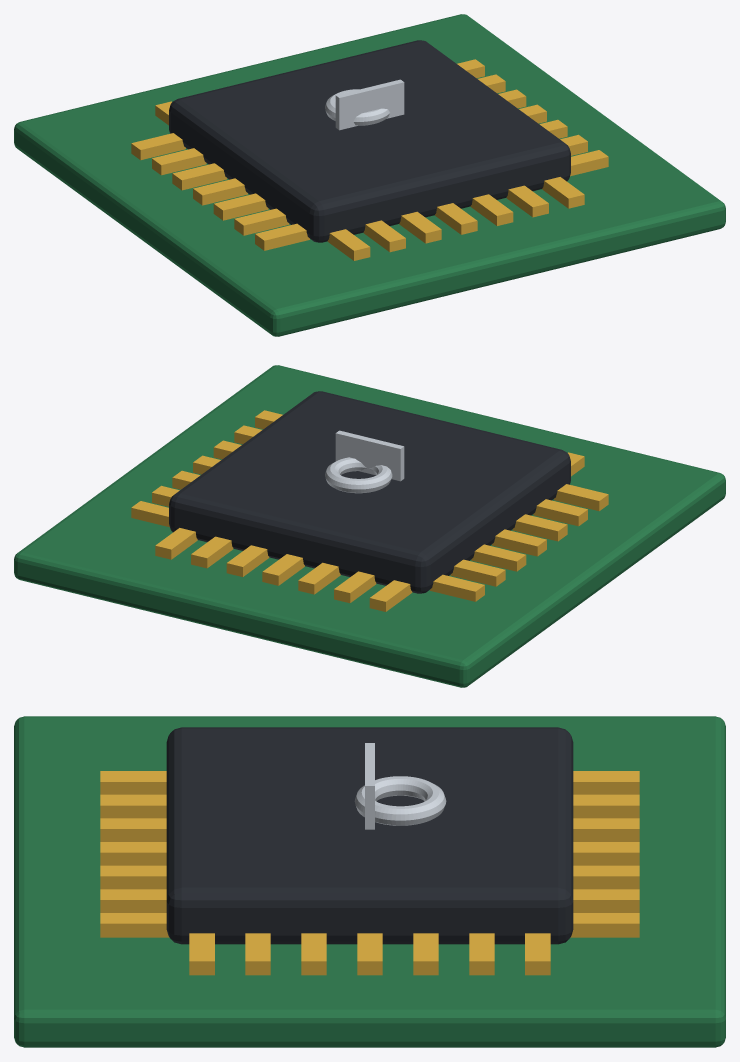
File: chip.glb
3 views of the same model, one above another, from view 1: azimuth 30°, elevation 25°; view 2: azimuth 150°, elevation 25°; view 3: azimuth 270°, elevation 25° (orthographic). The views are drawn at different scales.
Parts seen in each view (by area): view 1: Cube, Cube.001, Cube.030, Cube.012, Cube.008, Cube.020, Cube.004, Cube.016, Cube.028, Cube.024, Cube.018, Cube.002 (+7 smaller); view 2: Cube, Cube.001, Cube.030, Torus.002, Cube.020, Cube.024, Cube.012, Cube.028, Cube.004, Cube.016, Cube.008, Cube.019 (+7 smaller); view 3: Cube, Cube.001, Torus.002, Cube.026, Cube.027, Cube.006, Cube.007, Cube.018, Cube.019, Cube.002, Cube.003, Cube.010 (+13 smaller).
Part boxes in pixels (<box>): Cube: <box>14,14,725,336</box>; Cube.001: <box>169,40,570,242</box>; Cube.030: <box>335,79,404,130</box>; Cube.012: <box>213,193,268,220</box>; Cube.008: <box>234,208,289,235</box>; Cube.020: <box>172,163,227,190</box>; Cube.004: <box>255,223,309,250</box>; Cube.016: <box>193,178,247,205</box>; Cube.028: <box>131,133,185,160</box>; Cube.024: <box>152,148,206,175</box>; Cube.018: <box>470,194,513,225</box>; Cube.002: <box>327,229,370,260</box>; Cube: <box>14,365,725,687</box>; Cube.001: <box>169,391,570,593</box>; Cube.030: <box>335,430,404,481</box>; Torus.002: <box>325,457,392,493</box>; Cube.020: <box>471,544,526,571</box>; Cube.024: <box>450,559,505,586</box>; Cube.012: <box>512,514,567,541</box>; Cube.028: <box>430,574,484,601</box>; Cube.004: <box>554,484,608,511</box>; Cube.016: <box>492,529,546,556</box>; Cube.008: <box>533,499,587,526</box>; Cube.019: <box>226,545,269,576</box>; Cube: <box>14,716,725,1047</box>; Cube.001: <box>166,727,573,944</box>; Torus.002: <box>354,776,446,825</box>; Cube.026: <box>100,913,169,937</box>; Cube.027: <box>570,913,639,937</box>; Cube.006: <box>100,794,166,818</box>; Cube.007: <box>573,794,639,818</box>; Cube.018: <box>100,865,166,889</box>; Cube.019: <box>573,865,639,889</box>; Cube.002: <box>100,771,166,794</box>; Cube.003: <box>573,771,639,794</box>; Cube.010: <box>100,818,166,841</box>.
Bounding box in the file's own units: 1.4 × 0.295 × 1.4.
